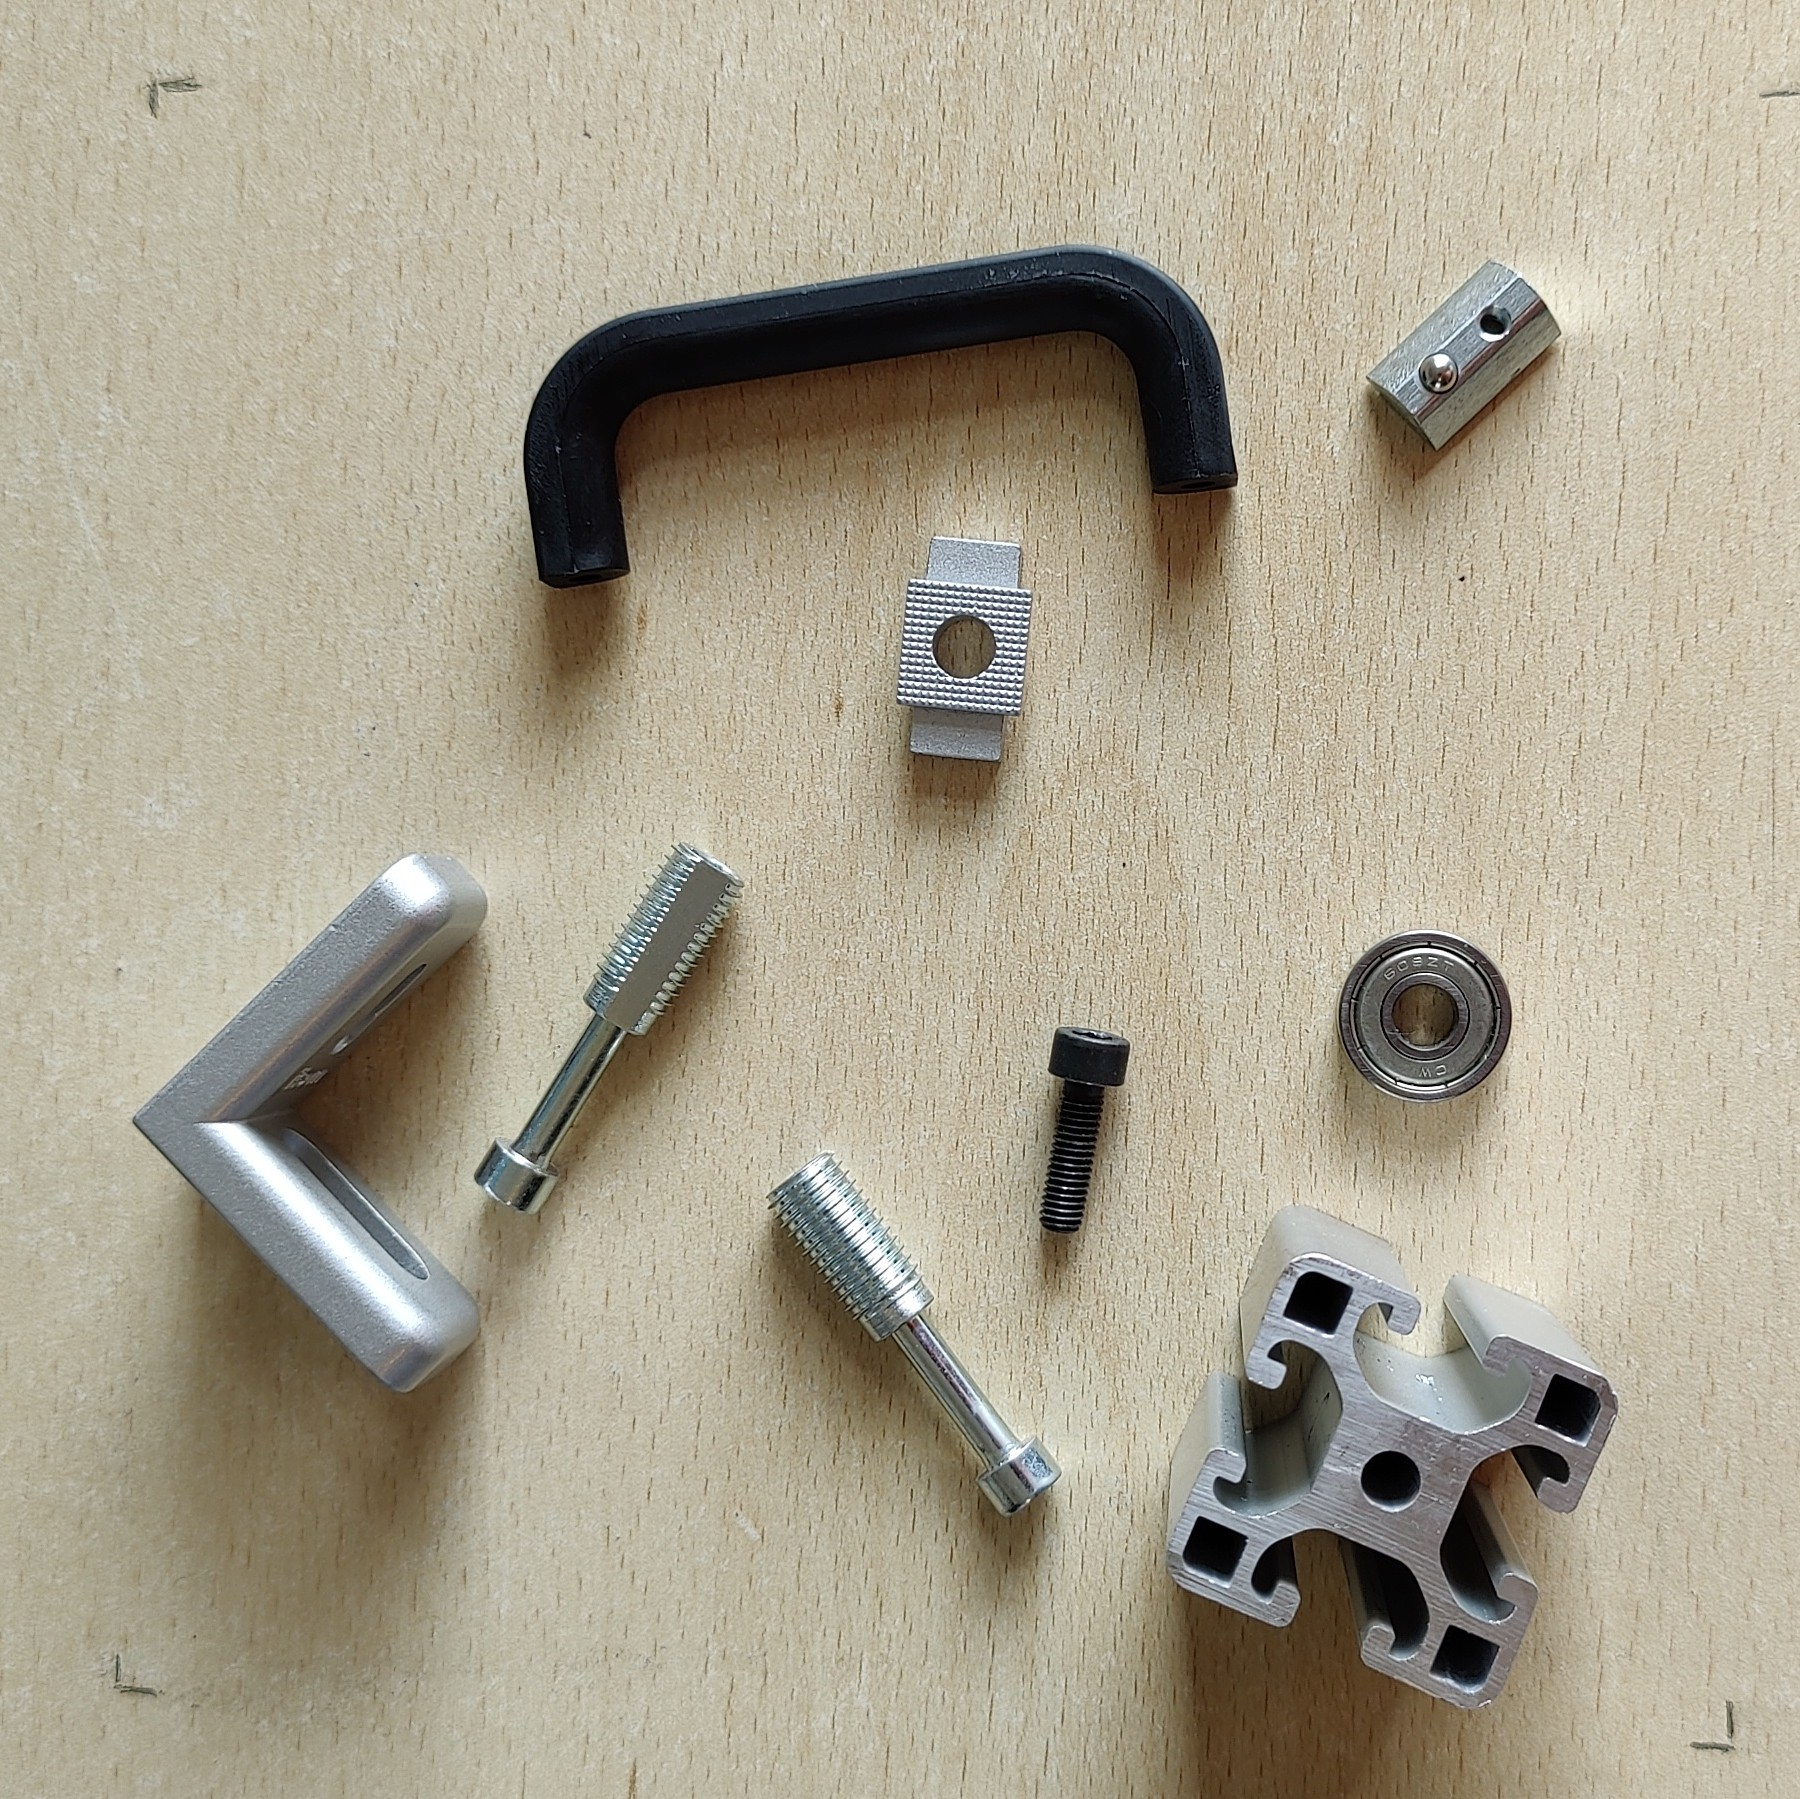Aluminium Extension: (1163, 1199, 1619, 1713)
Ball Bearing: (1332, 928, 1515, 1107)
Multiwinkel: (128, 850, 491, 1399)
Pull Handle: (520, 244, 1240, 591)
Shoulder Socket Head Cap Screw: (762, 1147, 1062, 1521), (471, 840, 748, 1219)
Socket Head Cap Screw: (1038, 1021, 1131, 1237)
T Nut Square: (896, 530, 1034, 768)
T Spring Nut: (1362, 254, 1563, 455)
